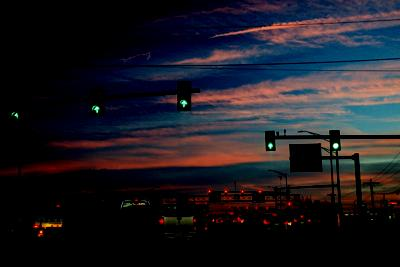International Road Signal Light: (176, 81, 192, 111), (90, 87, 105, 117), (329, 130, 341, 152), (265, 130, 276, 151)
